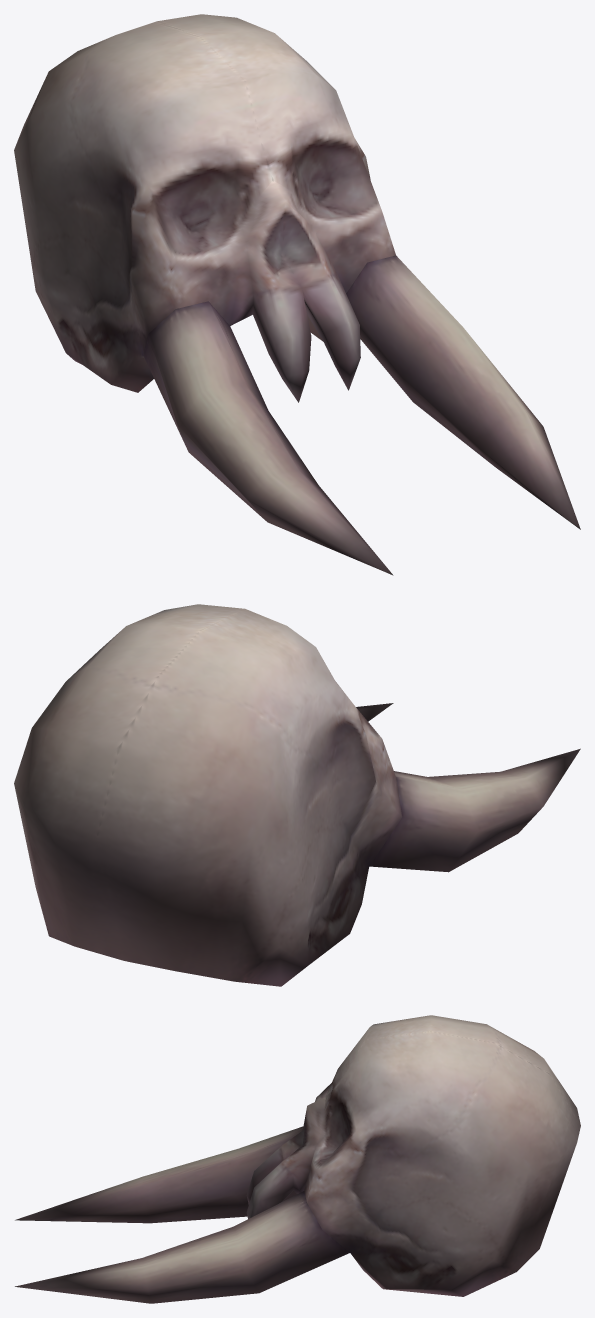
The model's file is jtpy_gutou_05.FBX.
The picture shows the model from 3 angles, top to bottom: view 1: azimuth 30°, elevation 25°; view 2: azimuth 150°, elevation 25°; view 3: azimuth 270°, elevation 25°; orthographic projection. The views are drawn at different scales.
Visible parts, largest first — view 1: jtpy_gutou_05; view 2: jtpy_gutou_05; view 3: jtpy_gutou_05.
Boxes of the visible parts, box(x1,y1,x2,y2) form: jtpy_gutou_05: box(14, 14, 580, 575); jtpy_gutou_05: box(14, 604, 580, 986); jtpy_gutou_05: box(15, 1015, 580, 1303).
Size of the model in its own units: 5.03 by 5.04 by 11.31.
